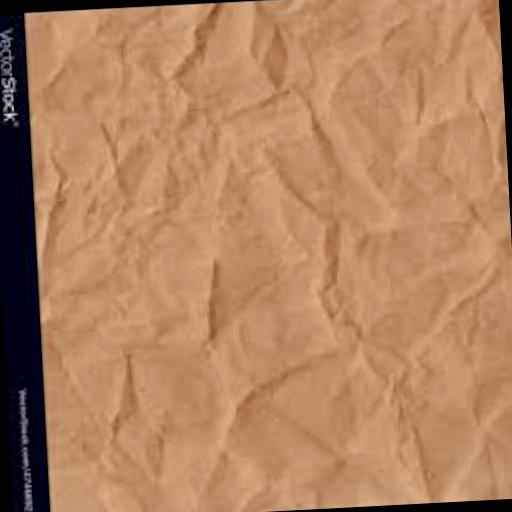paper: (29, 0, 512, 512)
